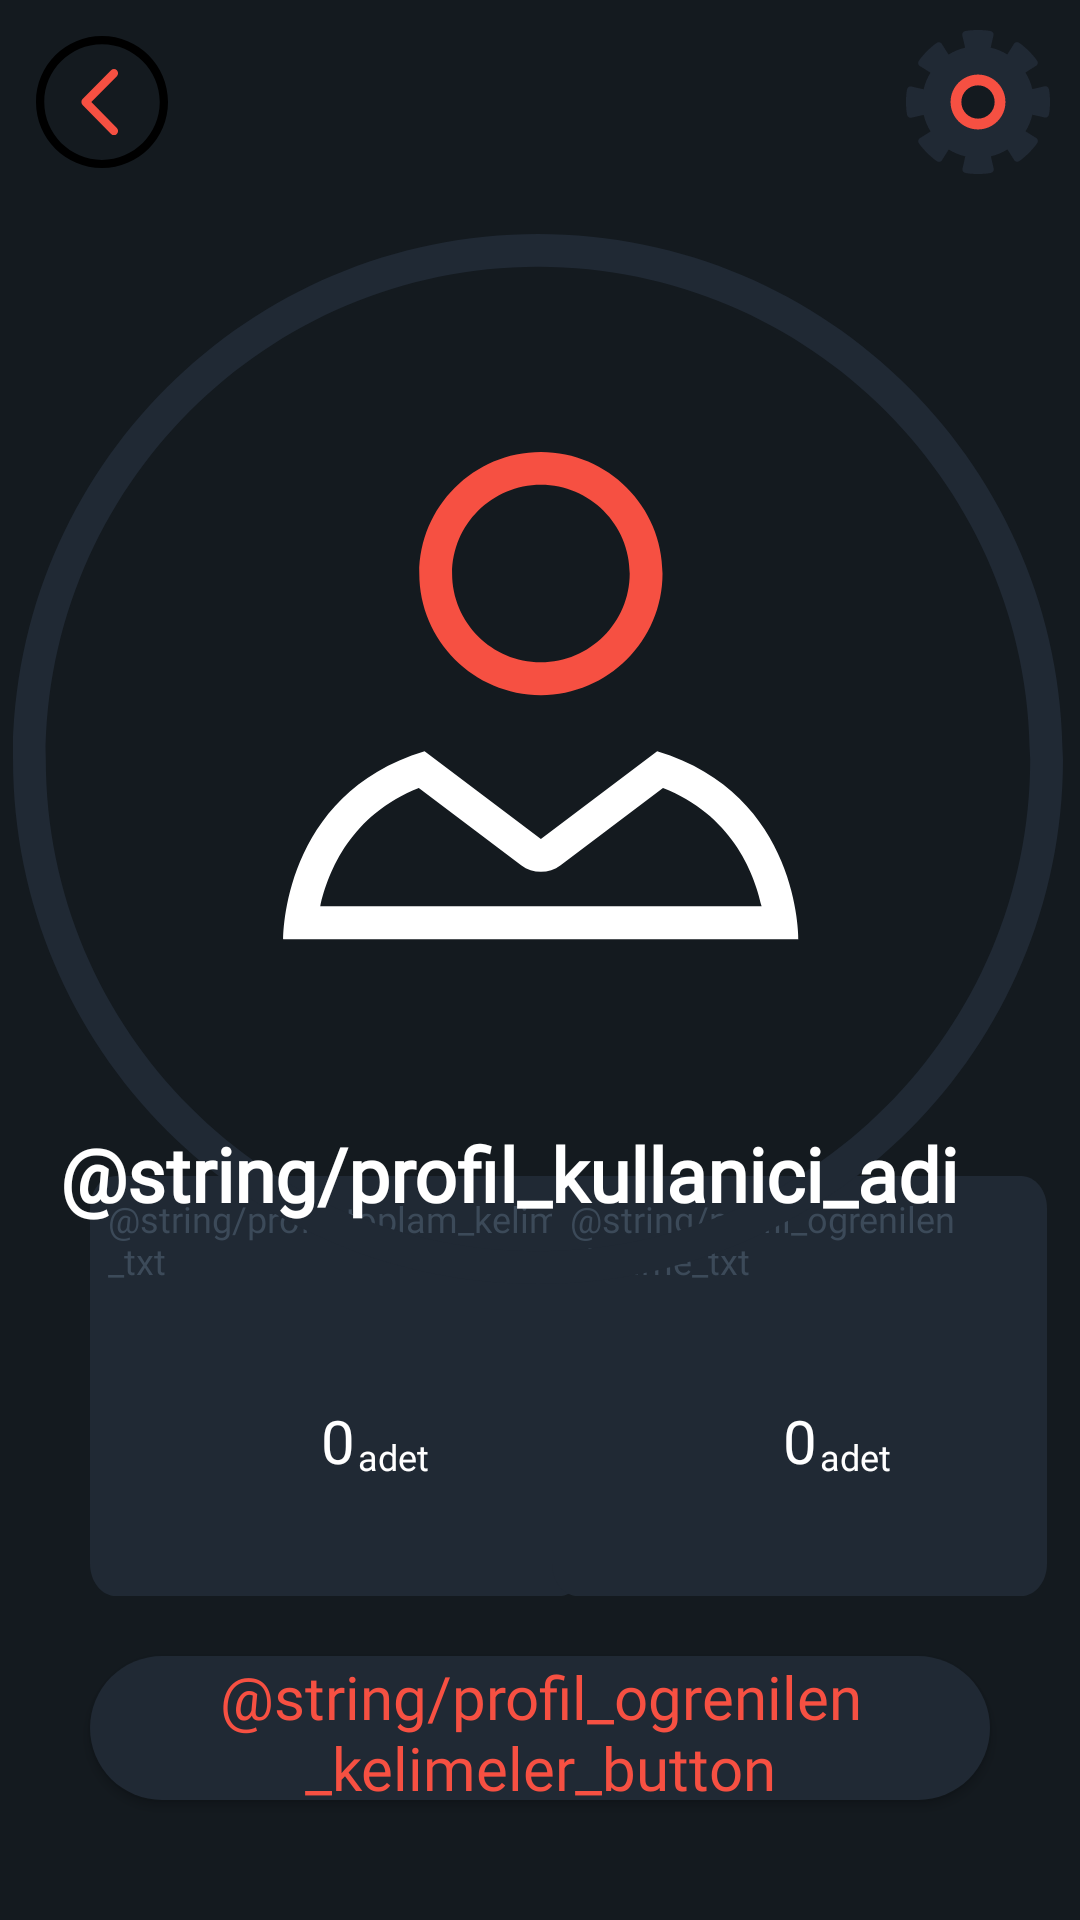

Icons on this 1080 × 1920 Android screen, each with the point to tap as [x,y]:
Geri: [102,102]
